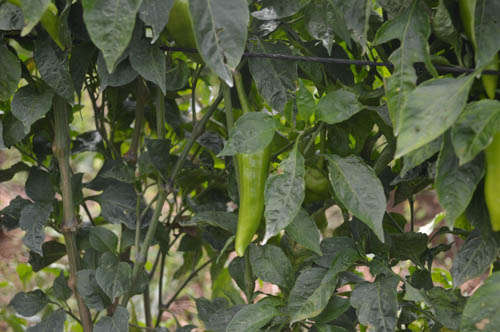ChiliPepper: (232, 150, 268, 260)
